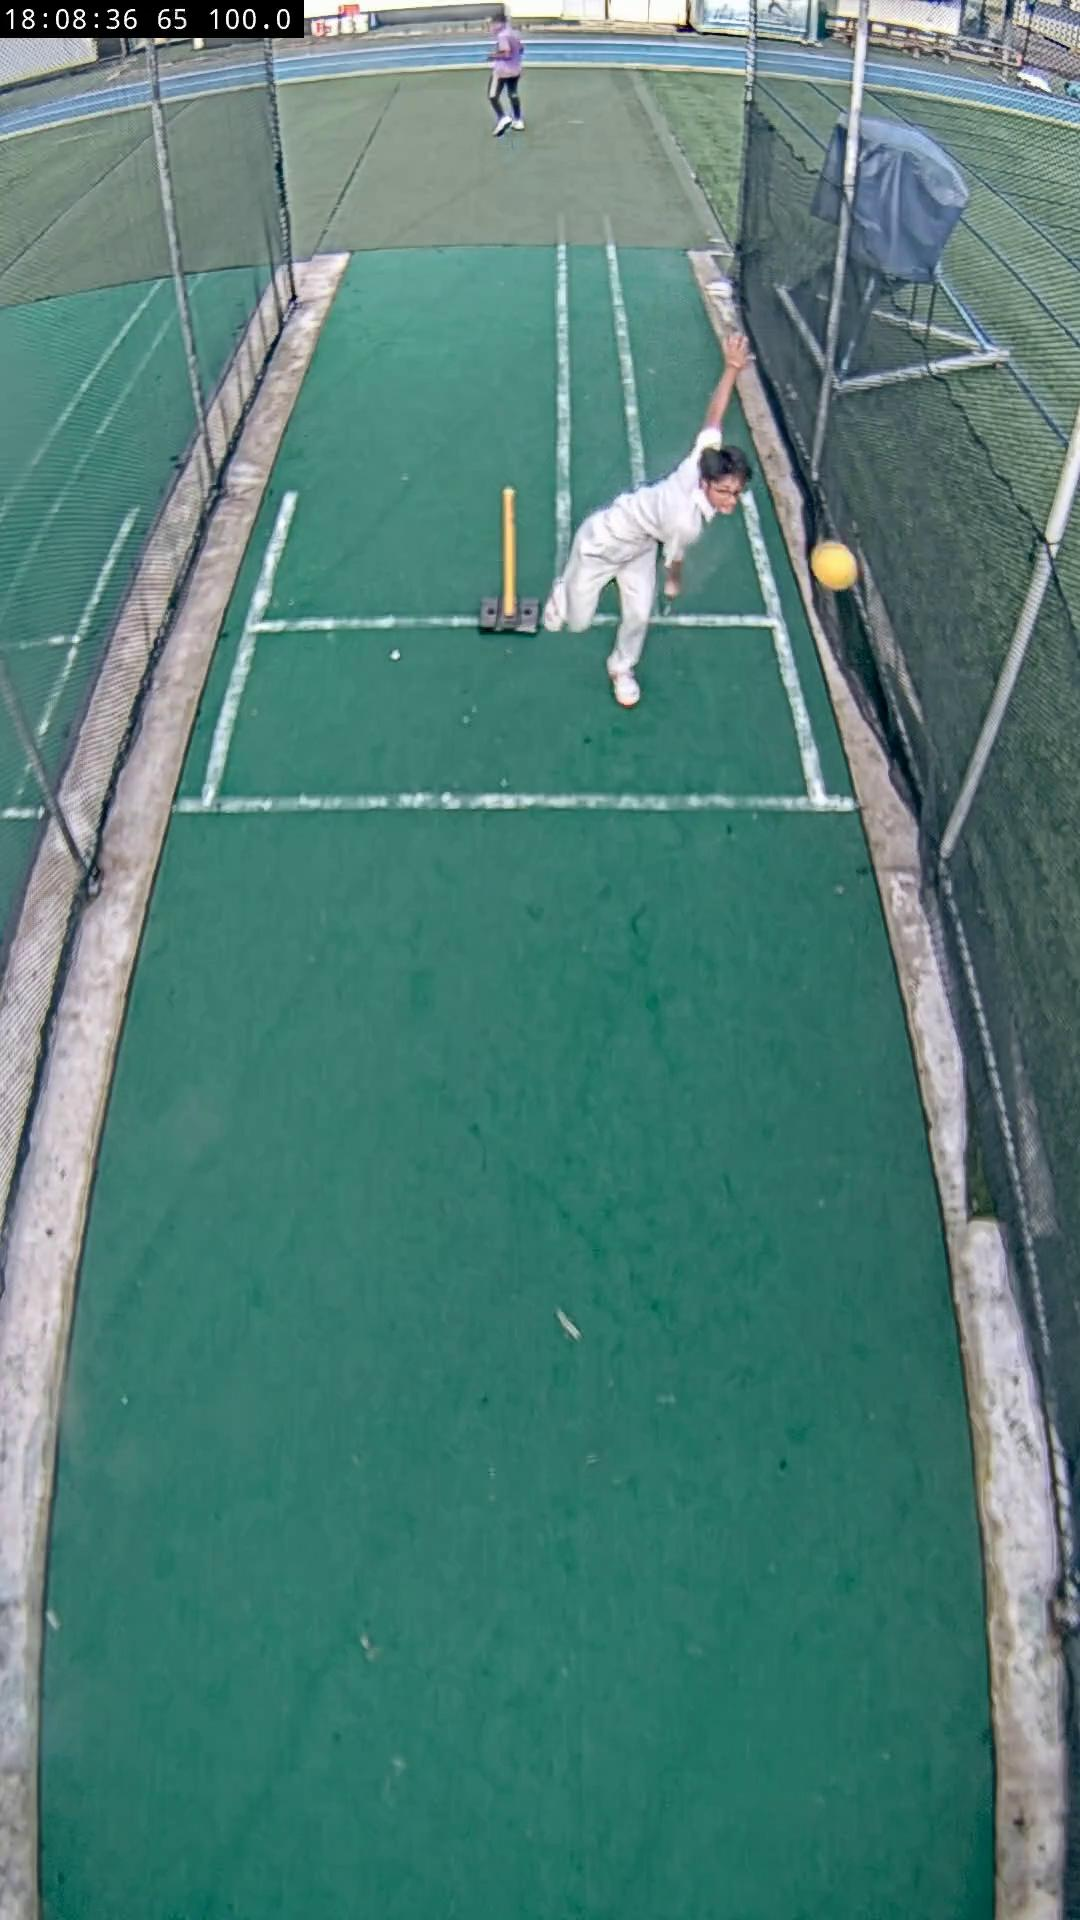ball: (810, 541, 858, 592)
stumps: (476, 488, 541, 634)
